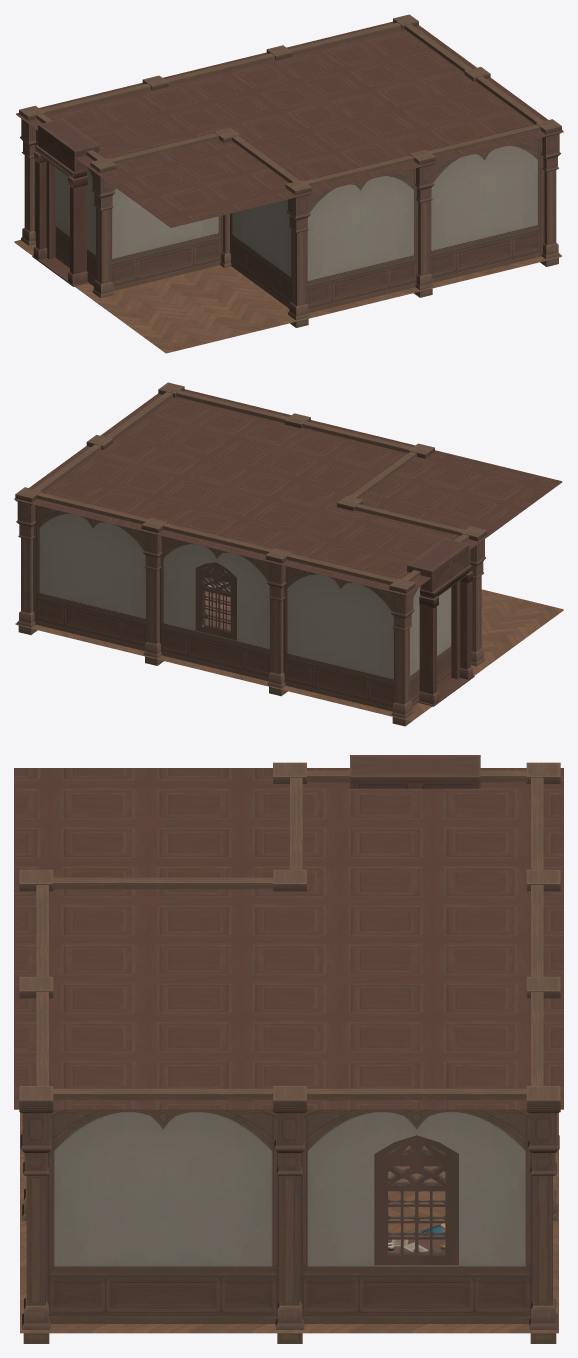
File: Level_DreamIsland_Fischlroom_NoCombine.fbx
3 renders of one model, top to bottom at view 1: azimuth 30°, elevation 25°; view 2: azimuth 150°, elevation 25°; view 3: azimuth 270°, elevation 25°, orthographic. The views are drawn at different scales.
Visible parts, largest first — view 1: Level_Md_Build_Comp_Floor_03_Vo, Level_Md_Build_Comp_Wall_03_Vo, Level_Md_Build_Comp_Wall_03_Vo (1), Level_Md_Build_Comp_Wall_03_Vo (5), Indoor_MdProps_Knight_Door02_1_Vo, Level_Md_Build_Comp_Wall_03_Vo (2), Level_Md_Build_Comp_Wall_03_Vo (6), Level_Md_Build_Comp_Pillar_02_Vo (2), Level_Md_Build_Comp_Pillar_02_Vo (6), Level_Md_Build_Comp_Pillar_02_Vo, Level_Md_Build_Comp_Pillar_02_Vo (1), Level_Md_Build_Comp_Pillar_02_Vo (7) (+6 smaller); view 2: Level_Md_Build_Comp_Floor_03_Vo, Level_Md_Build_Comp_Wall_03_Vo (4), Level_Md_Build_Comp_Wall_03_Vo (9), Level_Md_Build_Comp_Wall_02_Vo (1), Indoor_MdProps_Knight_Door02_1_Vo, Level_Md_Build_Comp_Wall_03_Vo (6), Level_Md_Build_Comp_Pillar_02_Vo (7), Level_Md_Build_Comp_Pillar_02_Vo (9), Level_Md_Build_Comp_Pillar_02_Vo (8), Level_Md_Build_Comp_Pillar_02_Vo (5), Level_Md_Build_Comp_Pillar_02_Vo (6), Level_Md_Build_Comp_Wall_03_Vo (+5 smaller); view 3: Level_Md_Build_Comp_Floor_03_Vo, Level_Md_Build_Comp_Wall_03_Vo (3), Level_Md_Build_Comp_Wall_02_Vo, Level_Md_Build_Comp_Pillar_02_Vo, Level_Md_Build_Comp_Pillar_02_Vo (4), Level_Md_Build_Comp_Pillar_02_Vo (5), Indoor_MdProps_Knight_Door02_1_Vo, Level_Md_Build_Comp_Wall_03_Vo (2), Level_Md_Build_Comp_Wall_03_Vo (4), Level_Md_Build_Comp_Wall_03_Vo, Level_Md_Build_Comp_Wall_03_Vo (5), Level_Md_Build_Comp_Wall_03_Vo (9) (+8 smaller).
Boxes of the visible parts, box(x1,y1,x2,y2) form: Level_Md_Build_Comp_Floor_03_Vo: box(14, 21, 563, 353); Level_Md_Build_Comp_Wall_03_Vo: box(428, 124, 544, 282); Level_Md_Build_Comp_Wall_03_Vo (1): box(304, 155, 417, 313); Level_Md_Build_Comp_Wall_03_Vo (5): box(109, 133, 222, 291); Indoor_MdProps_Knight_Door02_1_Vo: box(32, 118, 99, 286); Level_Md_Build_Comp_Wall_03_Vo (2): box(230, 136, 299, 308); Level_Md_Build_Comp_Wall_03_Vo (6): box(34, 113, 103, 286); Level_Md_Build_Comp_Pillar_02_Vo (2): box(285, 180, 311, 327); Level_Md_Build_Comp_Pillar_02_Vo (6): box(90, 158, 116, 298); Level_Md_Build_Comp_Pillar_02_Vo: box(536, 119, 561, 266); Level_Md_Build_Comp_Pillar_02_Vo (1): box(409, 150, 435, 297); Level_Md_Build_Comp_Pillar_02_Vo (7): box(19, 105, 44, 251); Level_Md_Build_Comp_Floor_03_Vo: box(14, 389, 563, 721); Level_Md_Build_Comp_Wall_03_Vo (4): box(33, 492, 149, 651); Level_Md_Build_Comp_Wall_03_Vo (9): box(283, 553, 396, 711); Level_Md_Build_Comp_Wall_02_Vo (1): box(159, 523, 272, 681); Indoor_MdProps_Knight_Door02_1_Vo: box(407, 538, 474, 706); Level_Md_Build_Comp_Wall_03_Vo (6): box(402, 534, 471, 706); Level_Md_Build_Comp_Pillar_02_Vo (7): box(389, 578, 415, 726); Level_Md_Build_Comp_Pillar_02_Vo (9): box(141, 518, 167, 665); Level_Md_Build_Comp_Pillar_02_Vo (8): box(265, 548, 291, 696); Level_Md_Build_Comp_Pillar_02_Vo (5): box(15, 487, 41, 634); Level_Md_Build_Comp_Pillar_02_Vo (6): box(461, 526, 487, 666); Level_Md_Build_Comp_Wall_03_Vo: box(176, 390, 288, 422); Level_Md_Build_Comp_Floor_03_Vo: box(14, 768, 563, 1333); Level_Md_Build_Comp_Wall_03_Vo (3): box(46, 1088, 280, 1323); Level_Md_Build_Comp_Wall_02_Vo: box(299, 1088, 533, 1323); Level_Md_Build_Comp_Pillar_02_Vo: box(19, 1086, 53, 1343); Level_Md_Build_Comp_Pillar_02_Vo (4): box(273, 1086, 306, 1343); Level_Md_Build_Comp_Pillar_02_Vo (5): box(526, 1086, 560, 1343); Indoor_MdProps_Knight_Door02_1_Vo: box(350, 755, 480, 788); Level_Md_Build_Comp_Wall_03_Vo (2): box(53, 877, 272, 889); Level_Md_Build_Comp_Wall_03_Vo (4): box(531, 992, 543, 1085); Level_Md_Build_Comp_Wall_03_Vo: box(36, 992, 48, 1085); Level_Md_Build_Comp_Wall_03_Vo (5): box(290, 777, 302, 869); Level_Md_Build_Comp_Wall_03_Vo (9): box(531, 777, 543, 869).
Size of the model in its own units: 12.86 by 4.35 by 8.68.
Materials: 14 (14 with a texture image).
